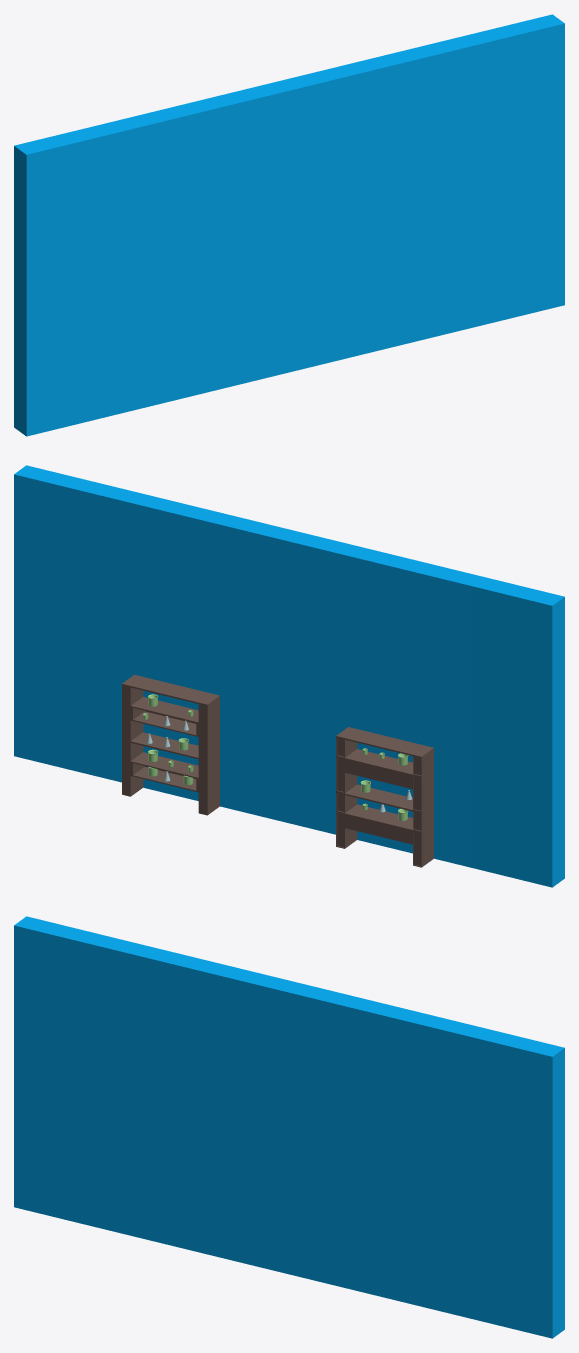
Rendered from BigRoomWallVariation2.fbx.
3 views of the same model, one above another, from view 1: azimuth 30°, elevation 25°; view 2: azimuth 150°, elevation 25°; view 3: azimuth 330°, elevation 25° (orthographic).
Parts seen in each view (by area): view 1: Wall; view 2: Wall, Cube.078, Cube.081, Cube.079, Cube.080; view 3: Wall.
Part boxes in pixels (x1,y1,x2,y2): Wall: [14, 14, 564, 436]; Wall: [14, 465, 564, 887]; Cube.078: [336, 727, 433, 812]; Cube.081: [122, 674, 219, 759]; Cube.079: [336, 784, 433, 867]; Cube.080: [122, 732, 219, 815]; Wall: [14, 916, 564, 1338].
Size of the model in its own units: 100 by 50 by 8.02.
